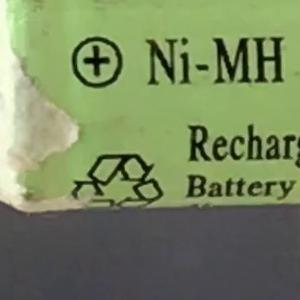NI-MH: (136, 27, 292, 95)
